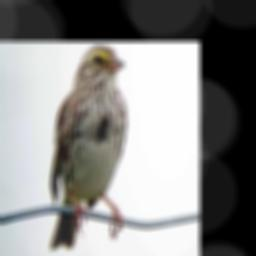Sparrow: (47, 43, 127, 250)
